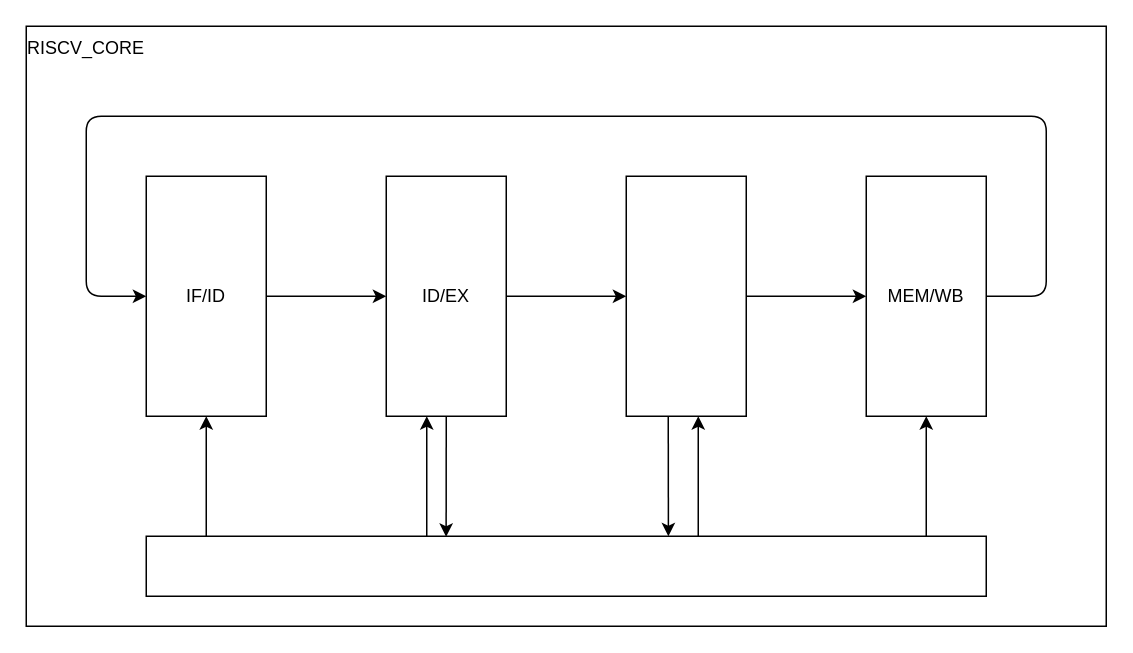
Some shapes in this 1133 by 653 pixel diagram are drawn without their labels. The box of each missing label's shape, as (x1, y1, x2, y2) in pixels:
EX/MEM: (625, 175, 746, 416)
Hazard Unit: (145, 535, 986, 596)
